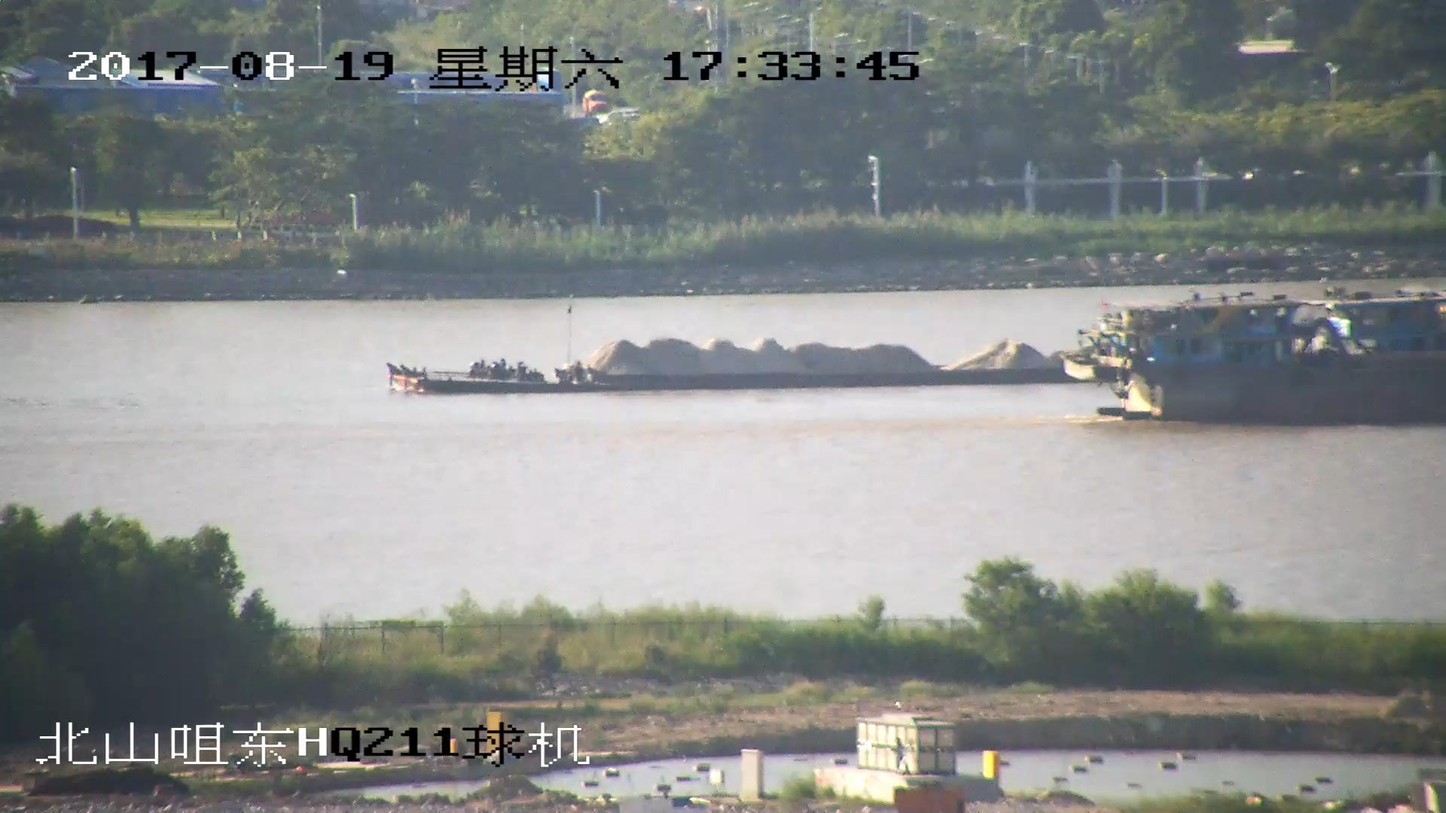bulk cargo carrier: (1066, 303, 1445, 423)
ore carrier: (382, 303, 1146, 394)
